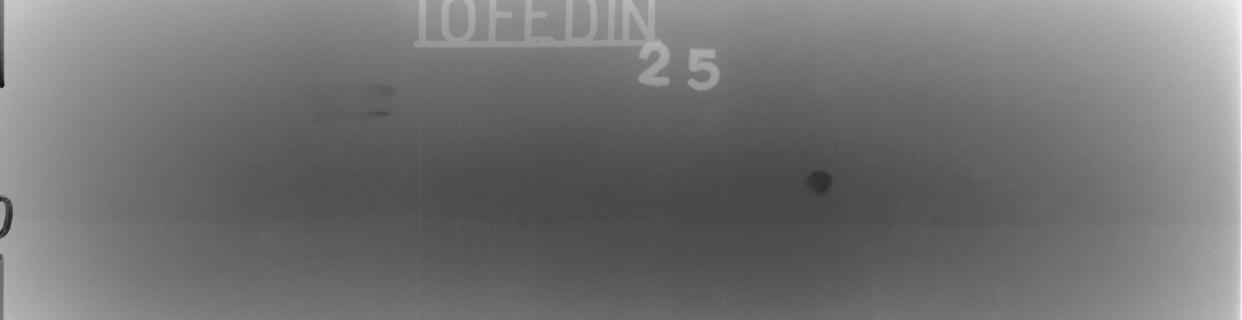FP: (304, 82, 413, 123)
PO: (791, 160, 852, 204)
